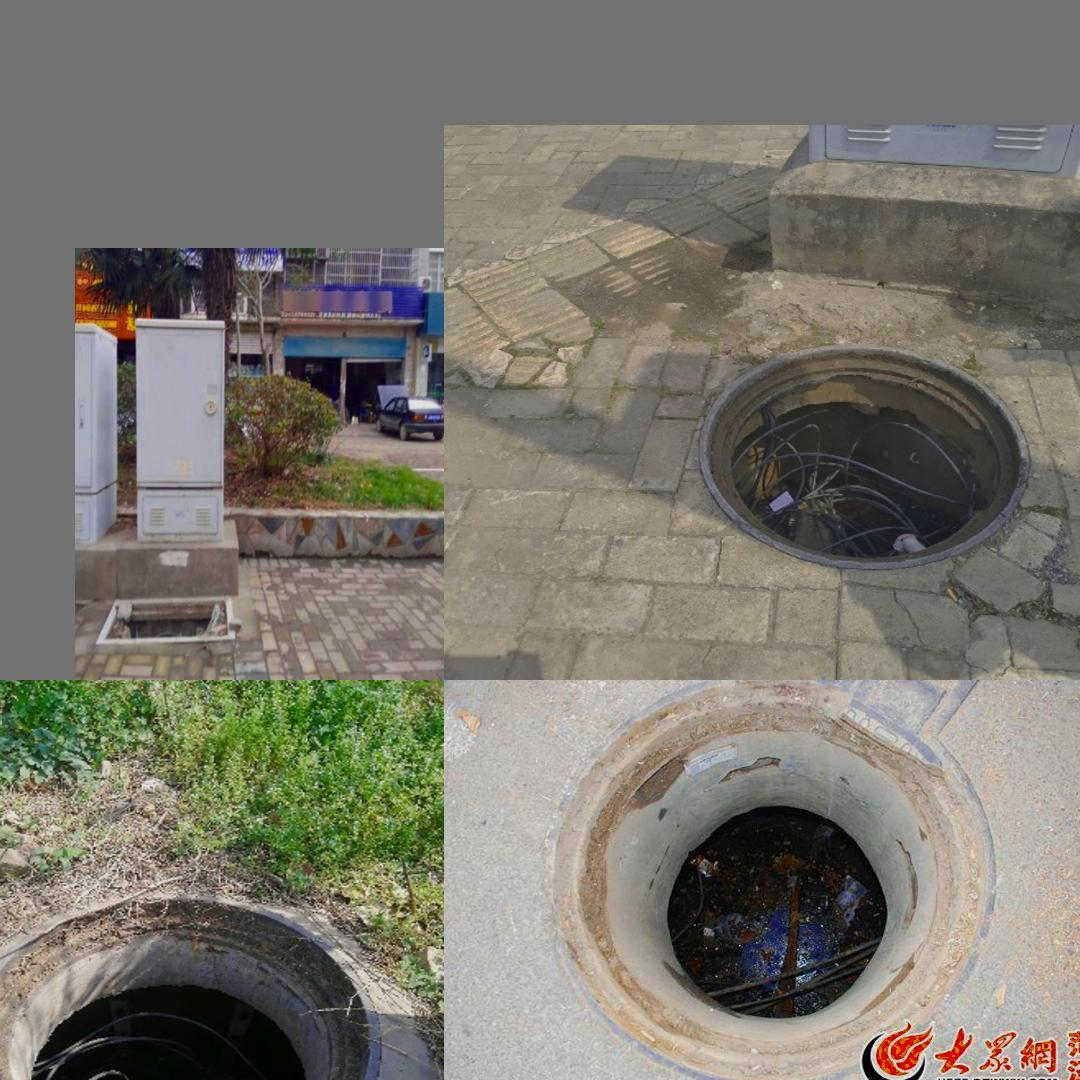lose: (544, 684, 1004, 1080), (697, 345, 1031, 571), (0, 890, 381, 1080), (95, 592, 235, 651)
